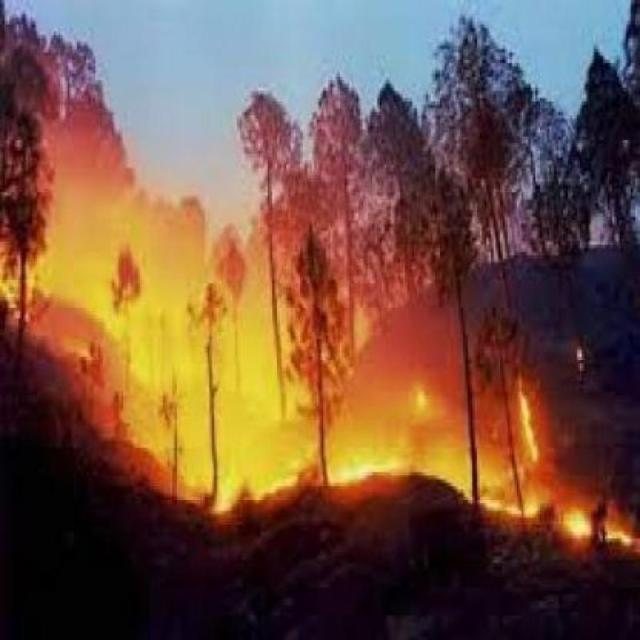Fire: (143, 406, 640, 564)
